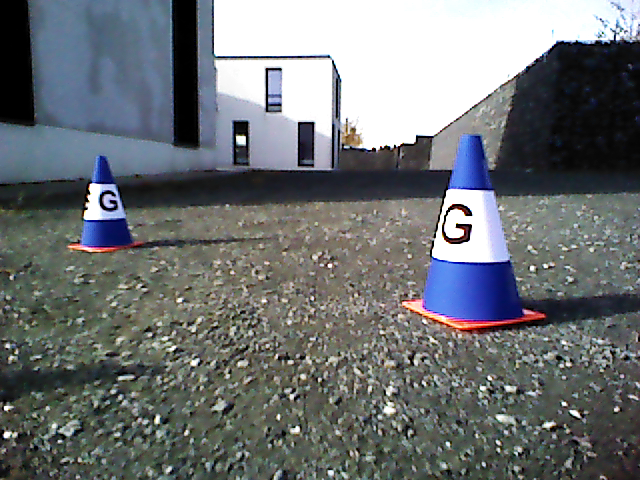bluecone: (425, 134, 521, 316), (80, 156, 131, 245)
